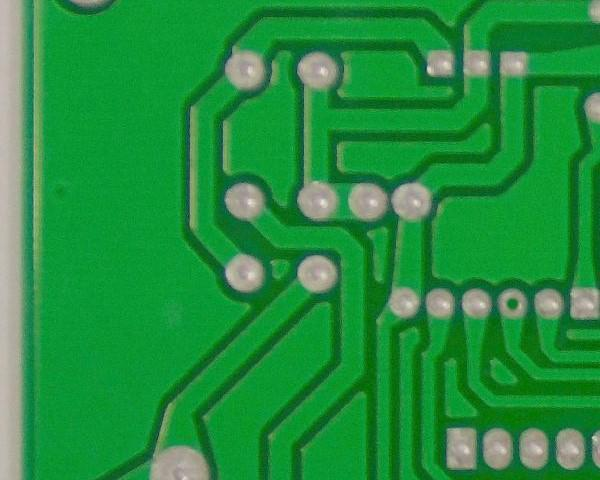missing hole: (492, 282, 534, 322)
